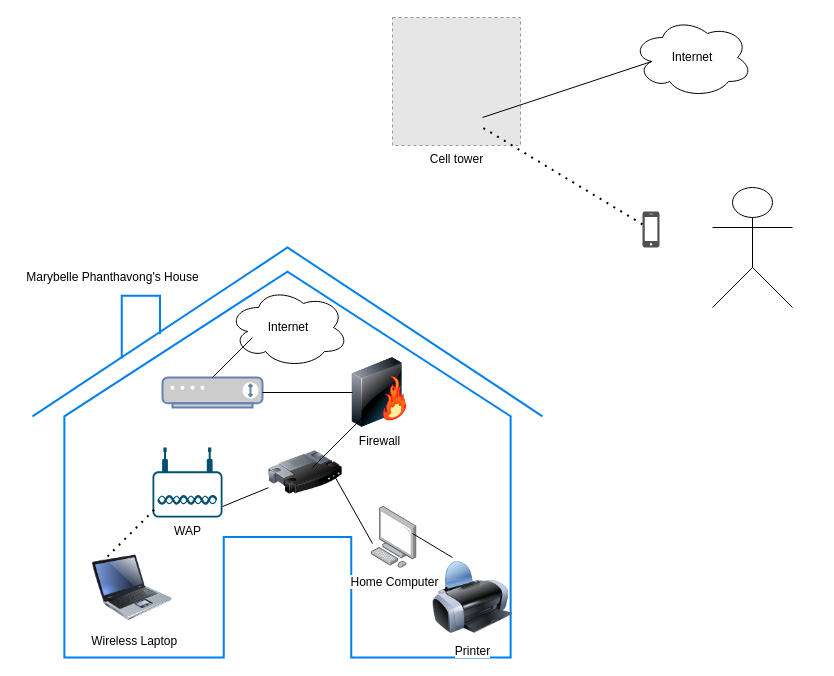
The diagram is 834 pixels wide and 676 high, and some of its shapes have lost their labels. Grey dashed boxes stand in for pictures. Each missing label, with the centre of its shape:
"Cell phone" goes at point (650, 229).
"Marybelle Phanthavong" goes at point (752, 247).
"Modem" goes at point (212, 392).
"Router" goes at point (305, 472).
